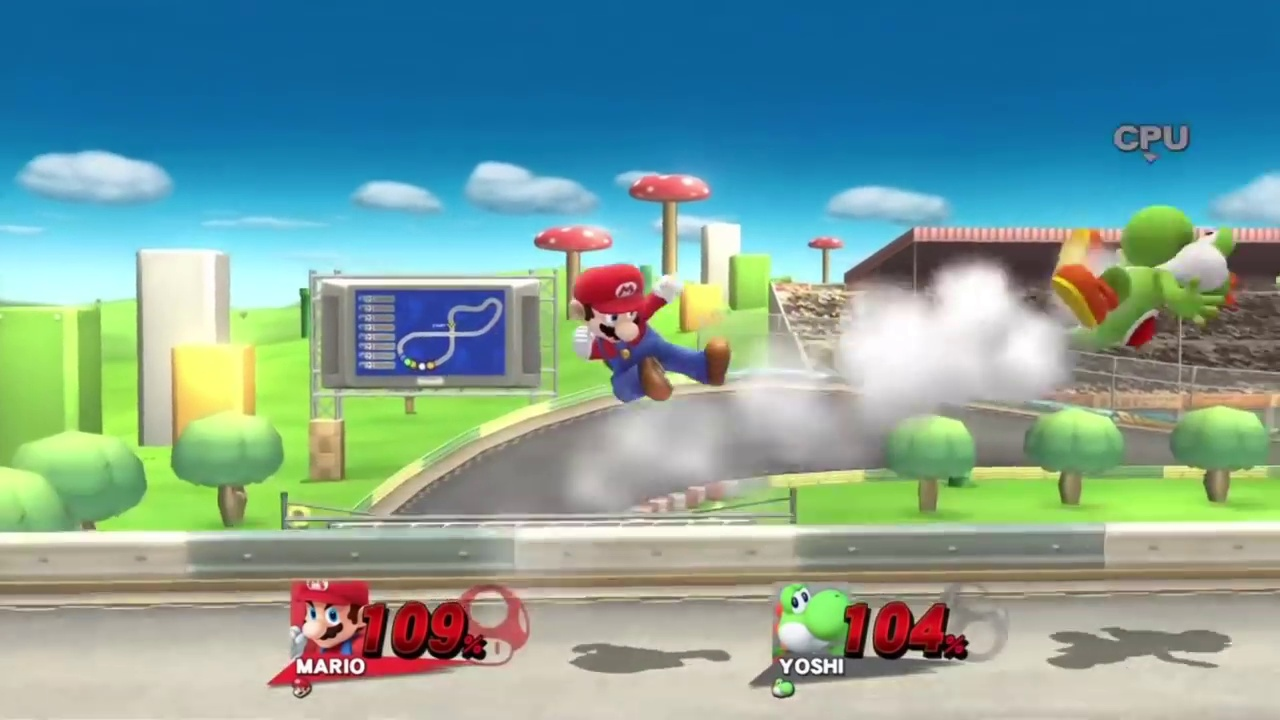Mario: (570, 265, 731, 402)
